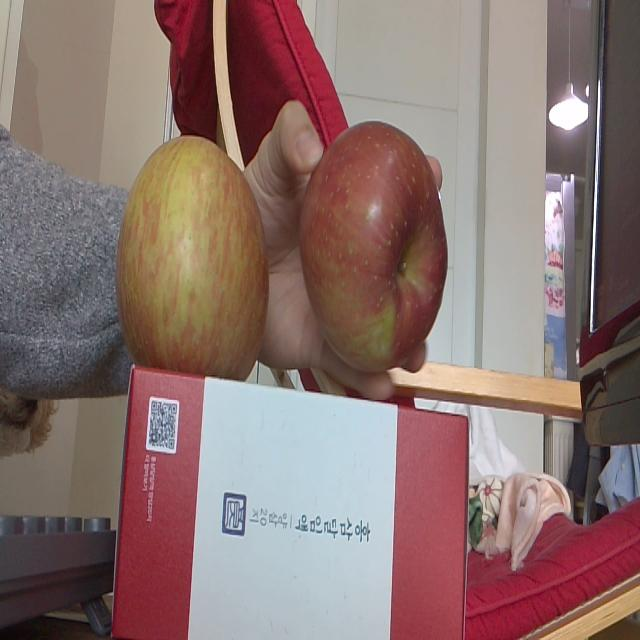apple: (299, 120, 447, 374), (114, 134, 268, 370)
